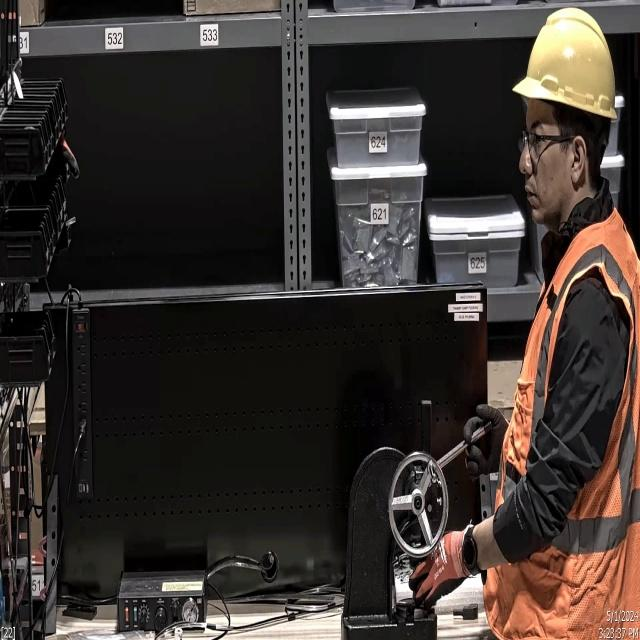construction-gloves: (409, 526, 466, 616)
